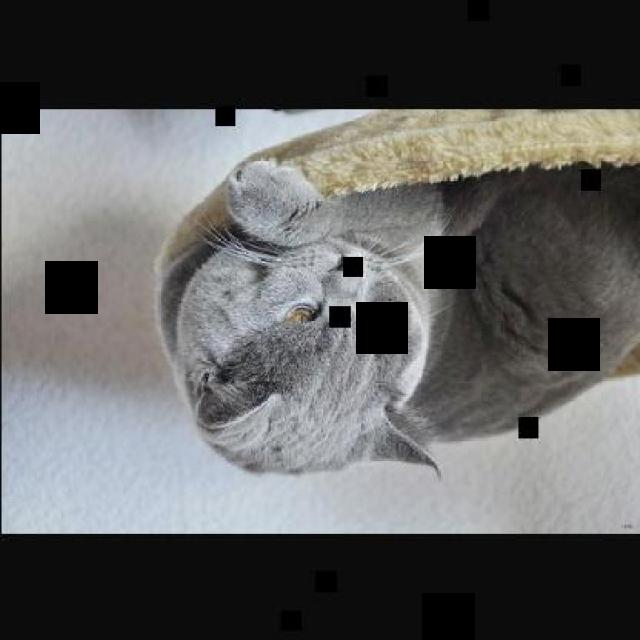unauthorized: (154, 152, 638, 477)
